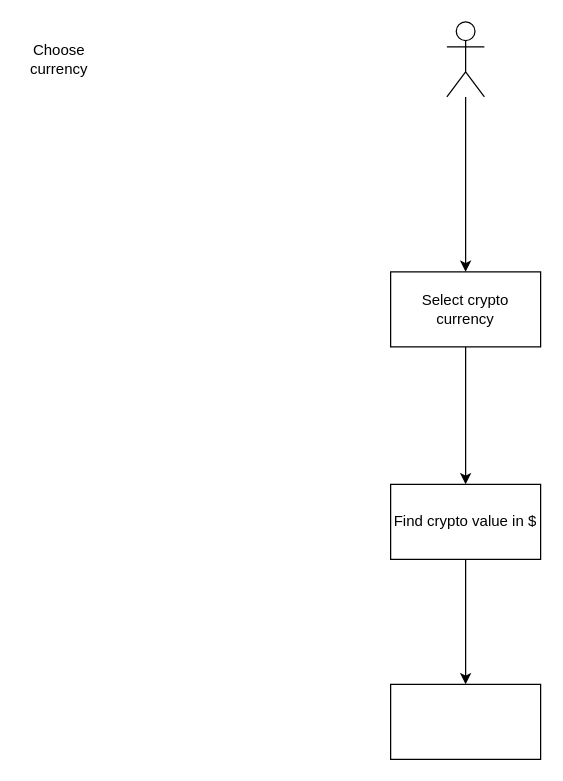
The diagram is 563 pixels wide and 781 high, and some of its shapes have lost their labels. Each missing label, with the box of its shape:
Actor: (446, 21, 484, 97)
Add to wallet: (389, 683, 541, 759)
